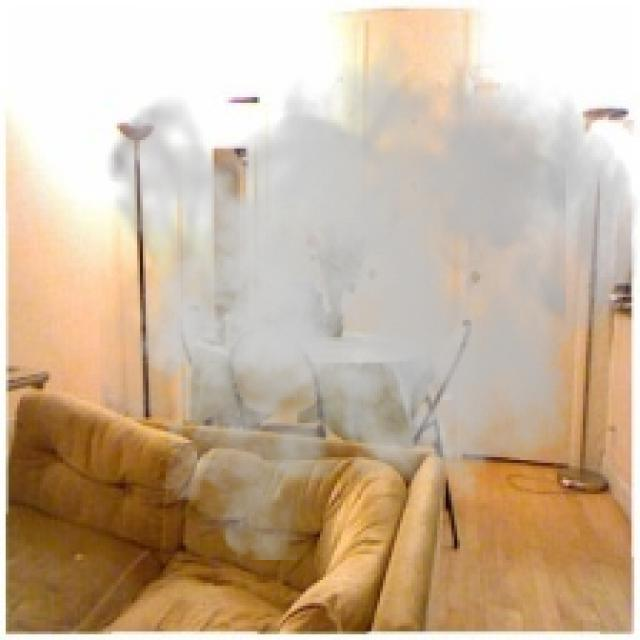smoke: (100, 6, 637, 563)
